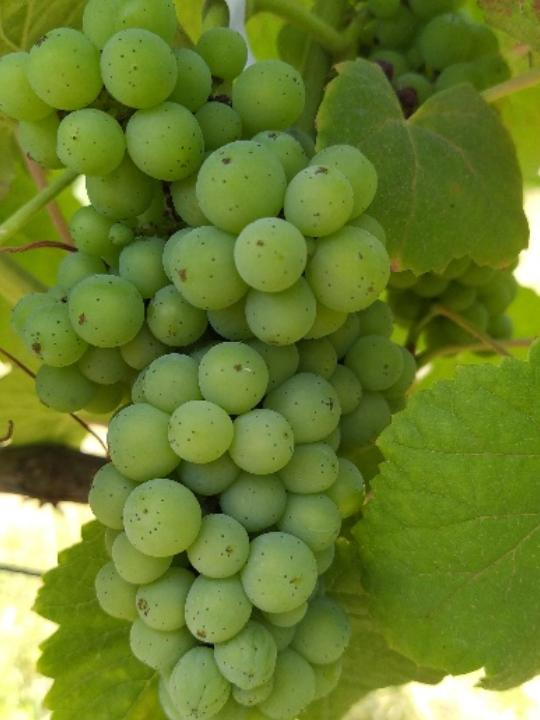grape: (0, 0, 424, 720)
